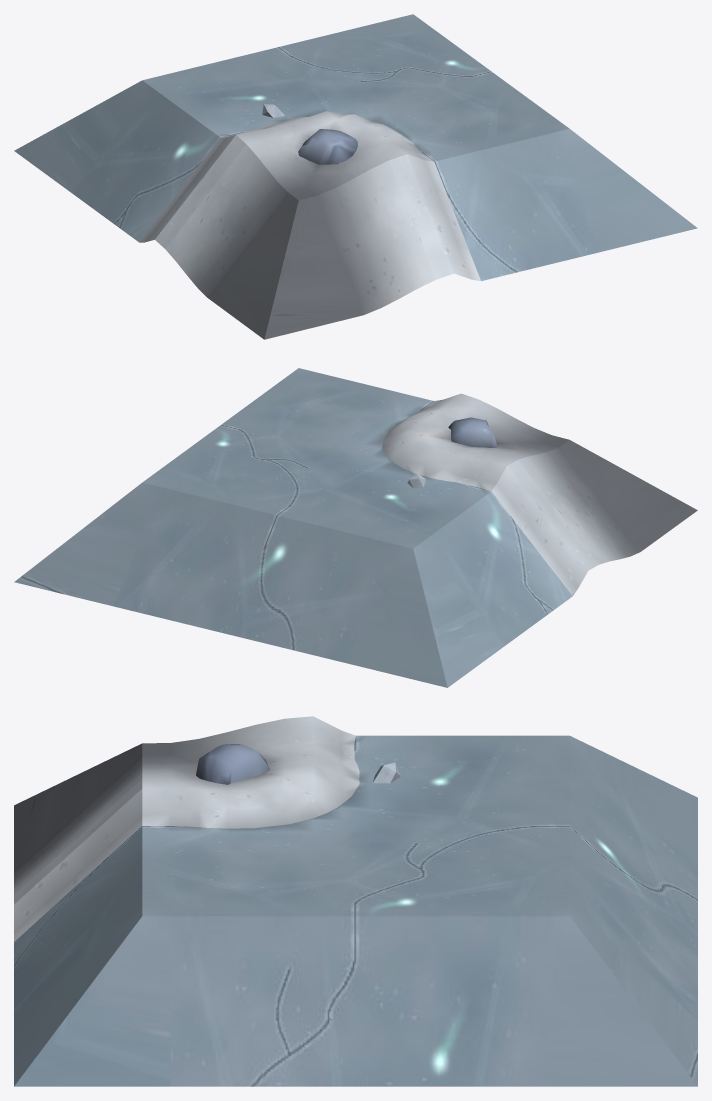
The model's file is helheim_gjoll_corner_land.glb.
3 renders of one model, top to bottom at view 1: azimuth 30°, elevation 25°; view 2: azimuth 150°, elevation 25°; view 3: azimuth 270°, elevation 25°, orthographic. The views are drawn at different scales.
Parts seen in each view (by area): view 1: helheim_gjoll_corner_land; view 2: helheim_gjoll_corner_land; view 3: helheim_gjoll_corner_land.
Part boxes in pixels (left/top/right/bottom): helheim_gjoll_corner_land: left=14, top=14, right=697, bottom=339; helheim_gjoll_corner_land: left=14, top=368, right=697, bottom=687; helheim_gjoll_corner_land: left=14, top=716, right=697, bottom=1086.
Size of the model in its own units: 1.6 by 0.3971 by 1.6.
Materials: 4 (4 with a texture image).
